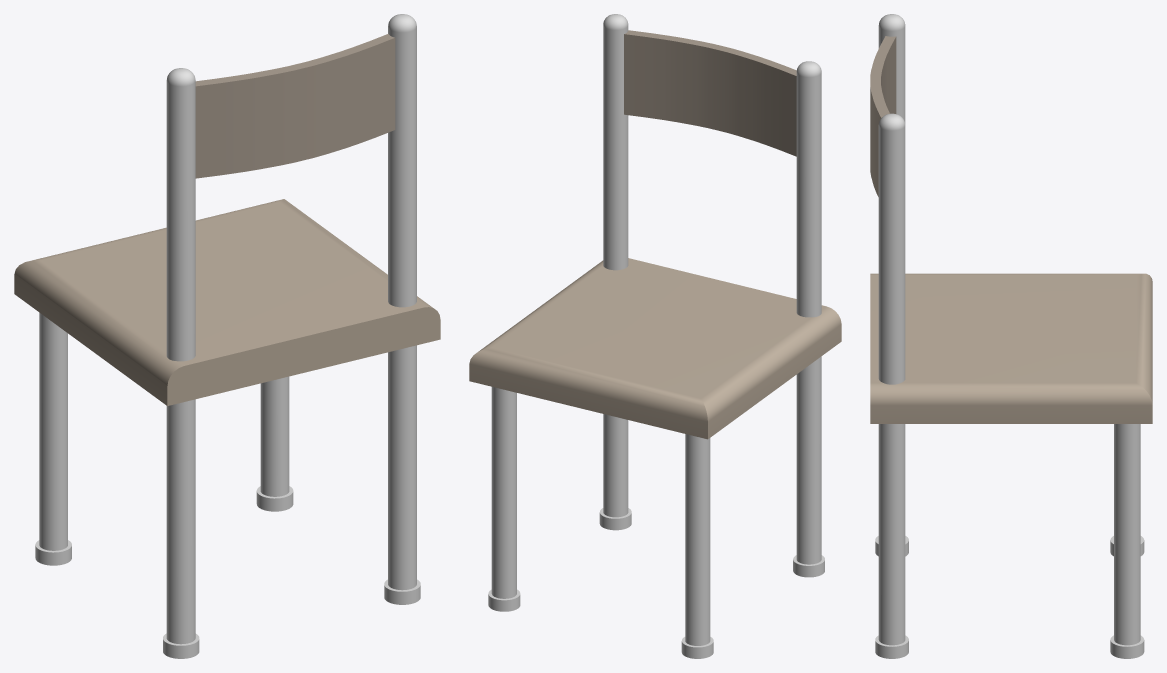
The model's file is Chaise2_3.fbx.
3 views of the same model, side by side, from view 1: azimuth 30°, elevation 25°; view 2: azimuth 150°, elevation 25°; view 3: azimuth 270°, elevation 25° (orthographic). The views are drawn at different scales.
Visible parts, largest first — view 1: pCube2671, pCube2670, pCylinder1662, pCylinder1663, pCylinder1664, pCylinder1665; view 2: pCube2671, pCube2670, pCylinder1662, pCylinder1663, pCylinder1665, pCylinder1664; view 3: pCube2671, pCylinder1663, pCylinder1665, pCube2670, pCylinder1662.
Boxes of the visible parts, x1=… form: pCube2671: x1=14, y1=199, x2=440, y2=405; pCube2670: x1=195, y1=34, x2=395, y2=178; pCylinder1662: x1=163, y1=68, x2=199, y2=658; pCylinder1663: x1=384, y1=14, x2=420, y2=604; pCylinder1664: x1=35, y1=312, x2=71, y2=565; pCylinder1665: x1=256, y1=376, x2=293, y2=511; pCube2671: x1=469, y1=258, x2=841, y2=439; pCube2670: x1=624, y1=30, x2=796, y2=156; pCylinder1662: x1=793, y1=61, x2=824, y2=577; pCylinder1663: x1=599, y1=14, x2=631, y2=530; pCylinder1665: x1=488, y1=387, x2=520, y2=611; pCylinder1664: x1=681, y1=434, x2=713, y2=658; pCube2671: x1=870, y1=273, x2=1152, y2=423; pCylinder1663: x1=875, y1=113, x2=908, y2=658; pCylinder1665: x1=1110, y1=424, x2=1144, y2=658; pCube2670: x1=870, y1=36, x2=896, y2=196; pCylinder1662: x1=875, y1=14, x2=908, y2=556.
Size of the model in its own units: 40.39 by 82.1 by 39.23.
